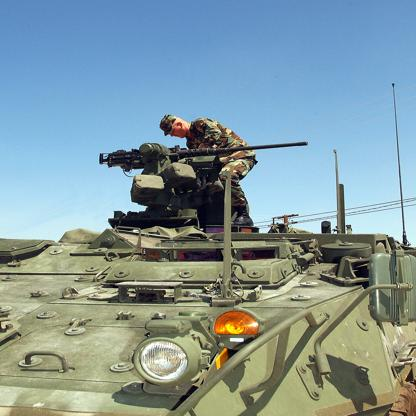Tank: (1, 133, 416, 416)
